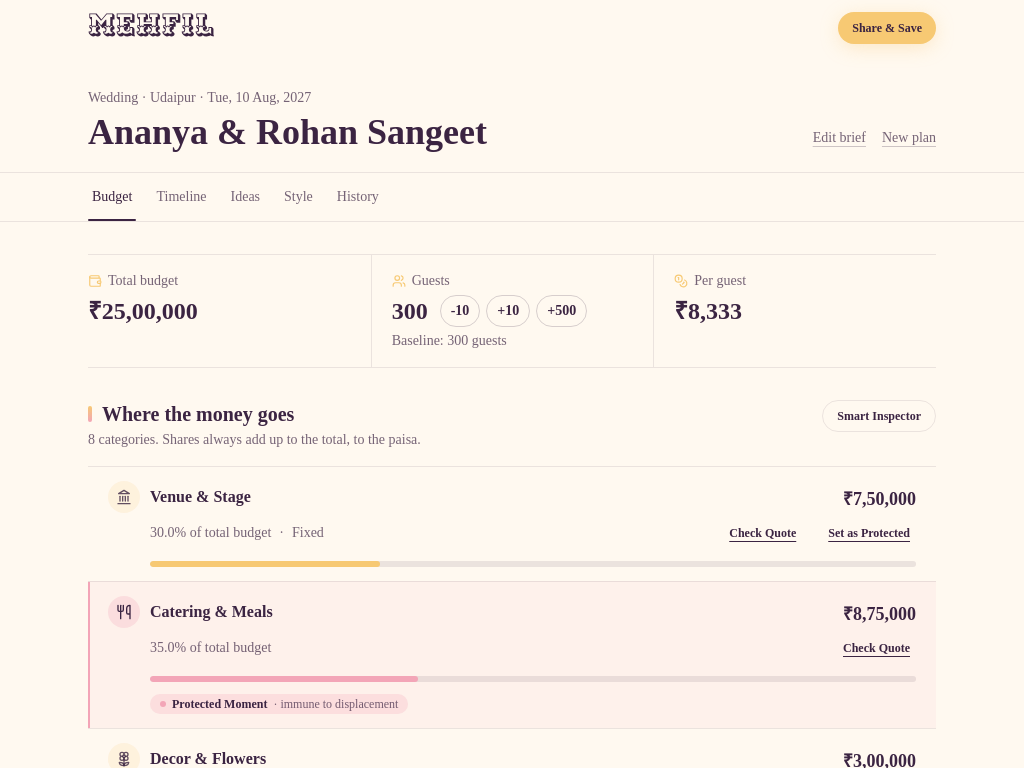
Scenario: WorkspaceShell Component › opens Smart Inspector sheet when clicking Smart Inspector button in top bar
The width and height of the screenshot is (1024, 768).
Click the button "Smart Inspector": (879, 416) [822,400,936,432]
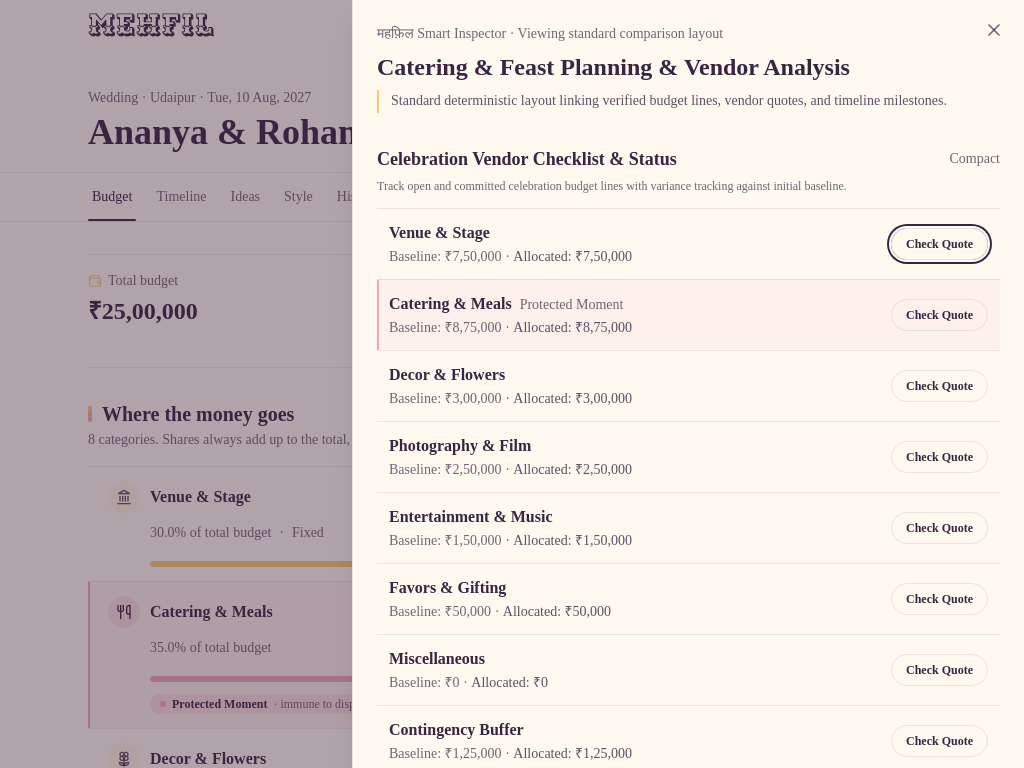
Expected: the dialog with test id "smart-inspector-sheet" is shown
